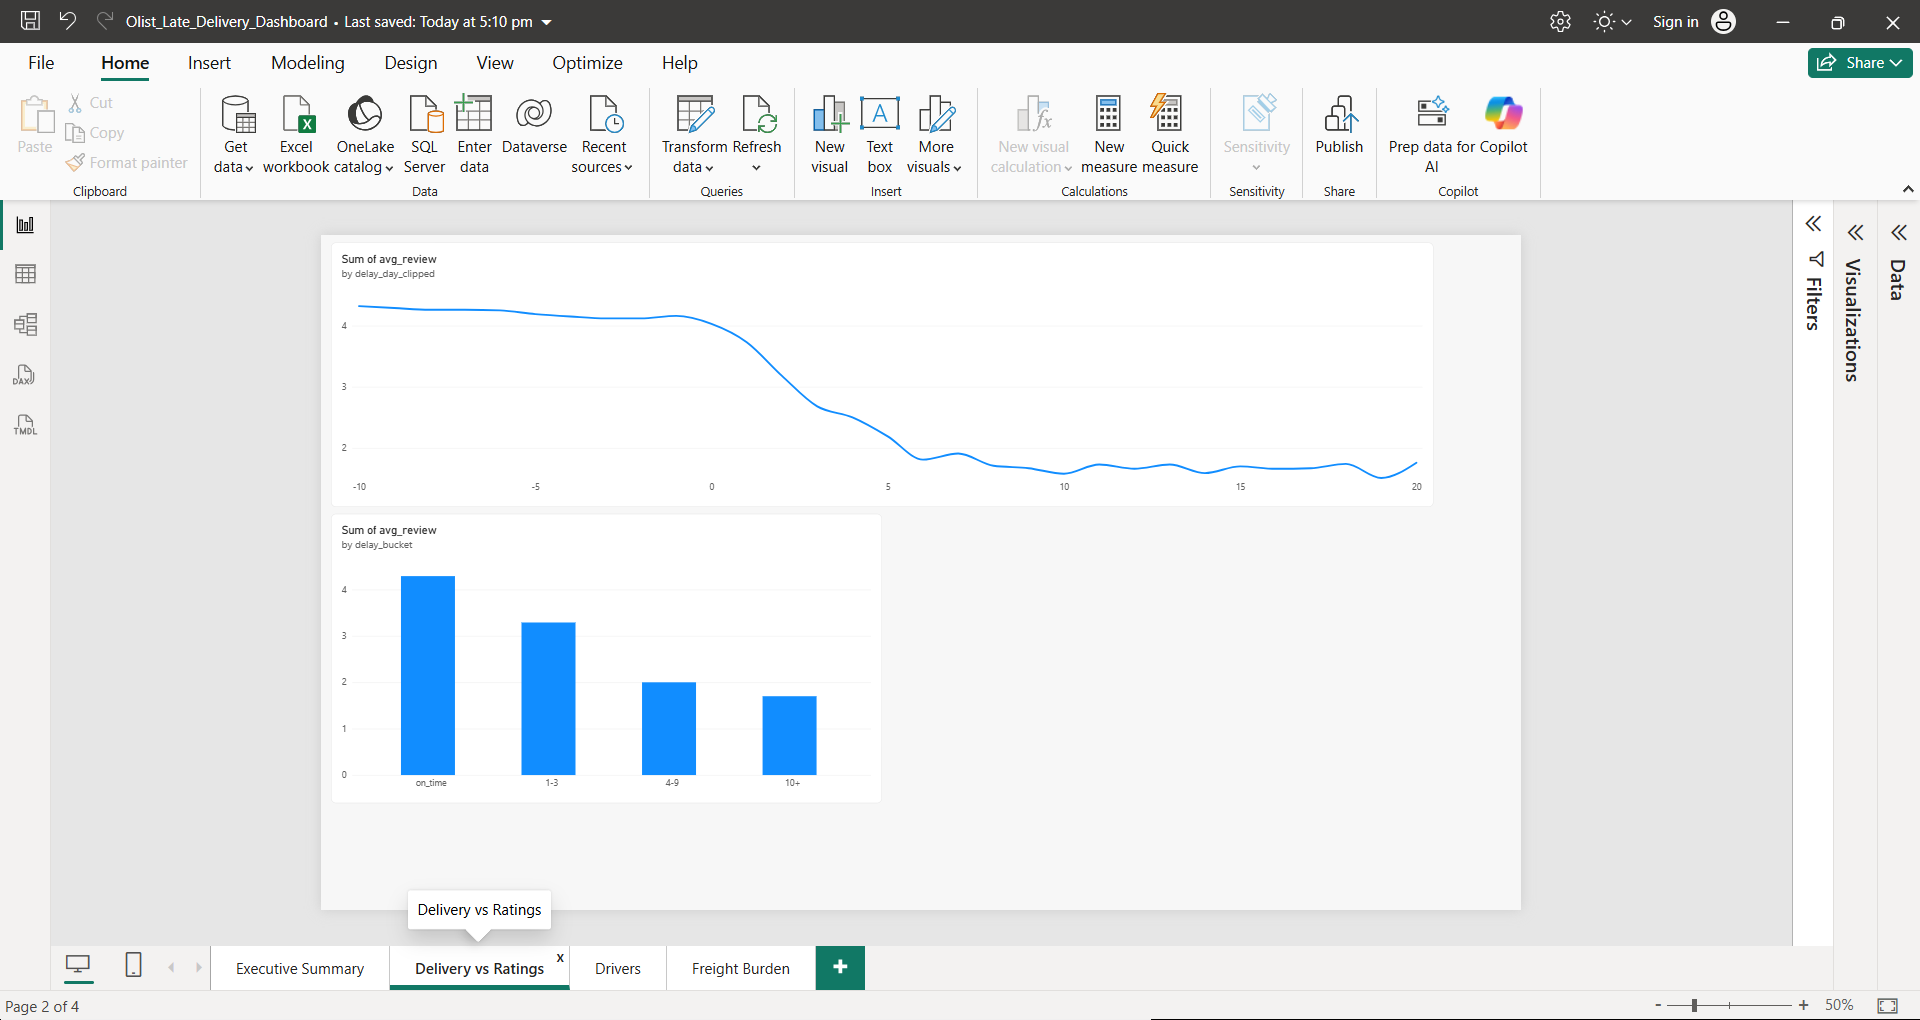

The dashboard page shown, as its layout file describes it:
{"tool":"powerbi","page":{"name":"Delivery vs Ratings","canvas":[1920,1080],"ordinal":1},"visuals":[{"type":"lineChart","fields":{"Category":["02_delay_by_day.delay_day_clipped"],"Y":["Sum(02_delay_by_day.avg_review)"]},"box":[16.4,11.5,1763.9,423],"z":0},{"type":"clusteredColumnChart","fields":{"Category":["02_delay_buckets.delay_bucket"],"Y":["Sum(02_delay_buckets.avg_review)"]},"box":[16.3,447,881.3,463.3],"z":1}]}

Visuals, with their boxes on the page's 1920x1080 design canvas (x1, y1, x2, y2). These are canvas units, not pixel positions in the 1920x1020 screenshot, which may show the page scaled, cropped or inside an application window:
lineChart - 02_delay_by_day.delay_day_clipped x Sum(02_delay_by_day.avg_review): [x1=16, y1=12, x2=1780, y2=434]
clusteredColumnChart - 02_delay_buckets.delay_bucket x Sum(02_delay_buckets.avg_review): [x1=16, y1=447, x2=898, y2=910]
